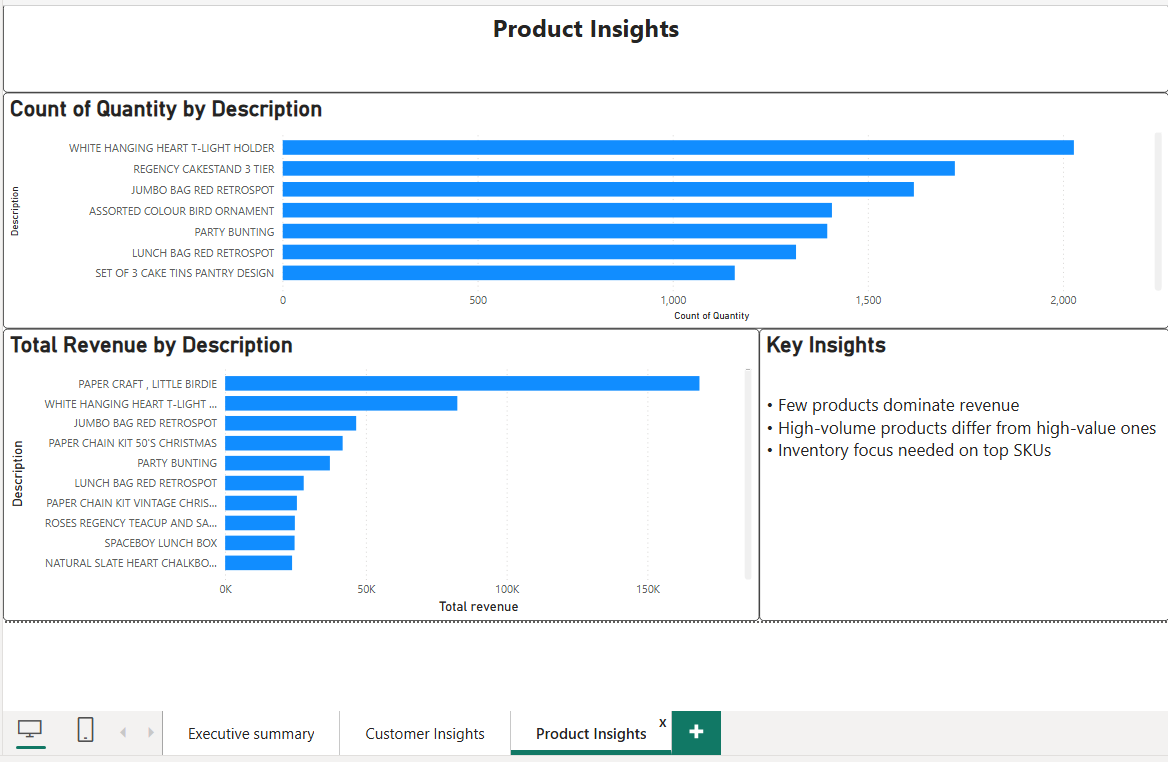

The dashboard page shown, as its layout file describes it:
{"tool":"powerbi","page":{"name":"Product Insights","canvas":[1280,720],"ordinal":2},"visuals":[{"type":"barChart","fields":{"Category":["online_retail.Description"],"Y":["CountNonNull(online_retail.Quantity)"]},"box":[0,140,1280.3,259.3],"z":0},{"type":"barChart","title":"Total Revenue by Description","fields":{"Category":["online_retail.Description"],"Y":["online_retail.Total revenue"]},"box":[0,399.3,830.2,321.1],"z":1000},{"type":"textbox","title":"Key Insights","box":[830.2,399.3,450.1,321.1],"z":2000},{"type":"textbox","title":"Key Insights","box":[0,42.5,1280.3,97.4],"z":3000}]}

Visuals, with their boxes on the page's 1280x720 design canvas (x1, y1, x2, y2). These are canvas units, not pixel positions in the 1168x762 screenshot, which may show the page scaled, cropped or inside an application window:
barChart - online_retail.Description x CountNonNull(online_retail.Quantity): (x1=0, y1=140, x2=1280, y2=399)
"Total Revenue by Description" barChart: (x1=0, y1=399, x2=830, y2=720)
"Key Insights" textbox: (x1=830, y1=399, x2=1280, y2=720)
"Key Insights" textbox: (x1=0, y1=42, x2=1280, y2=140)
